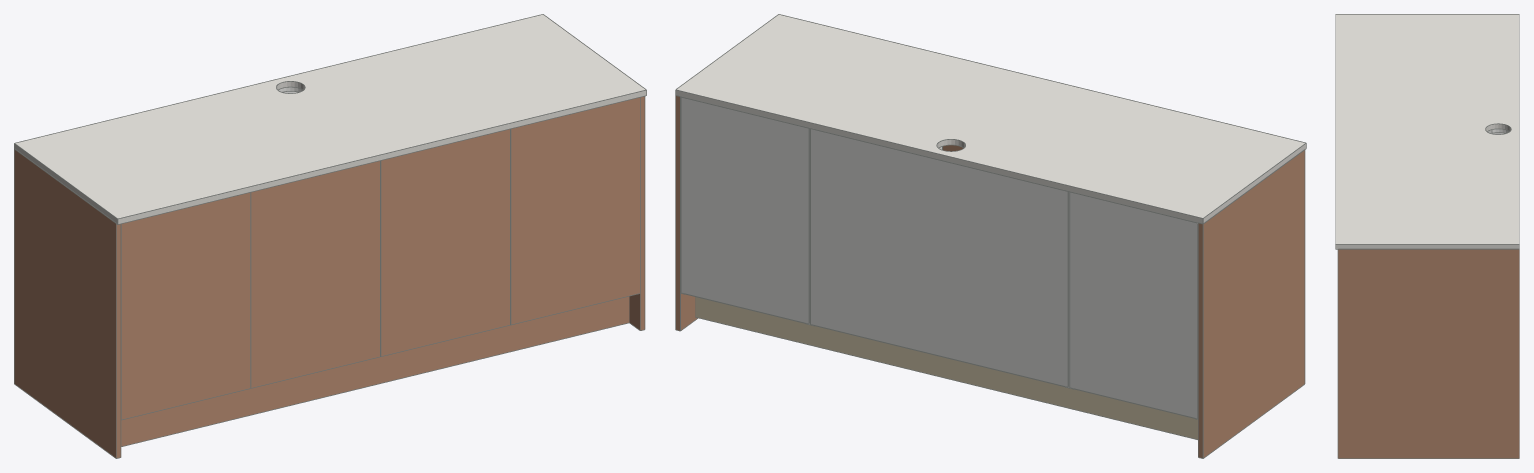
File: modell.glb
3 views of the same model, side by side, from view 1: azimuth 30°, elevation 25°; view 2: azimuth 150°, elevation 25°; view 3: azimuth 270°, elevation 25° (orthographic). The views are drawn at different scales.
Bounding box in the file's own units: 2073 × 903 × 703.
